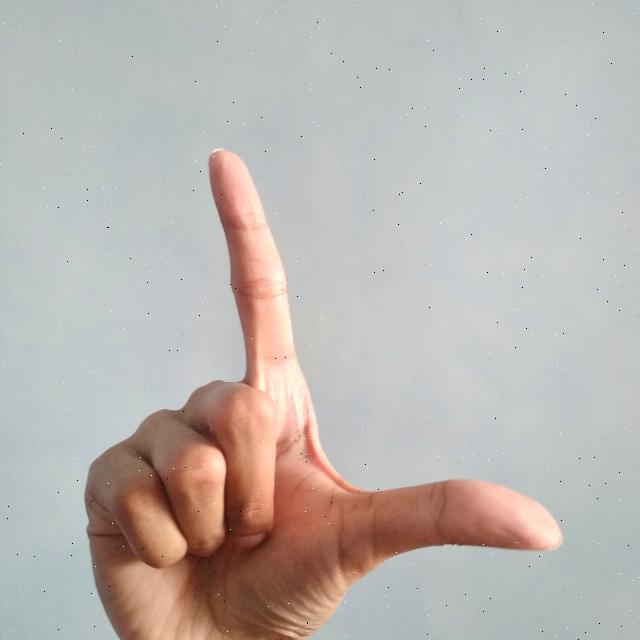L: (79, 142, 572, 640)
